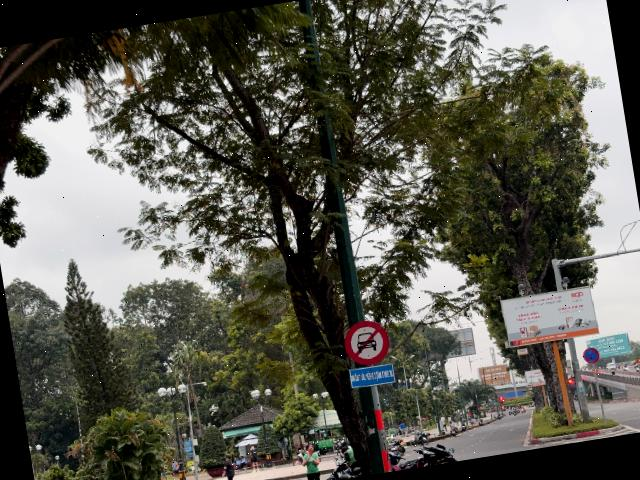cam-o-to: (341, 316, 392, 368)
